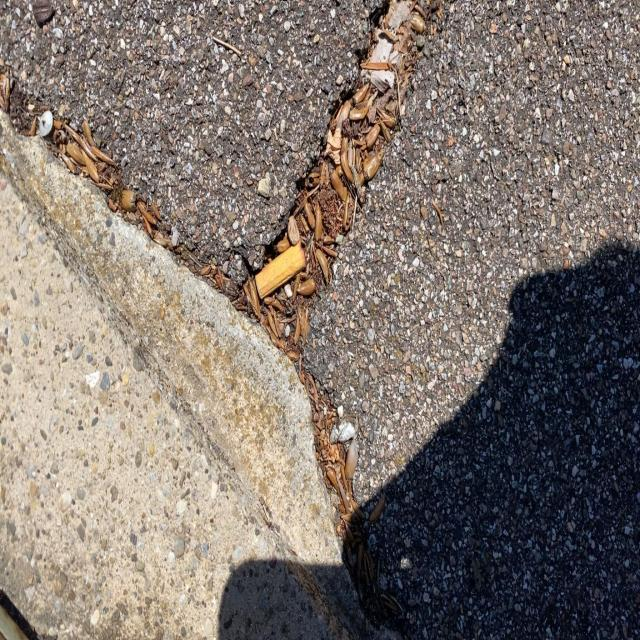other waste: (254, 238, 306, 300)
